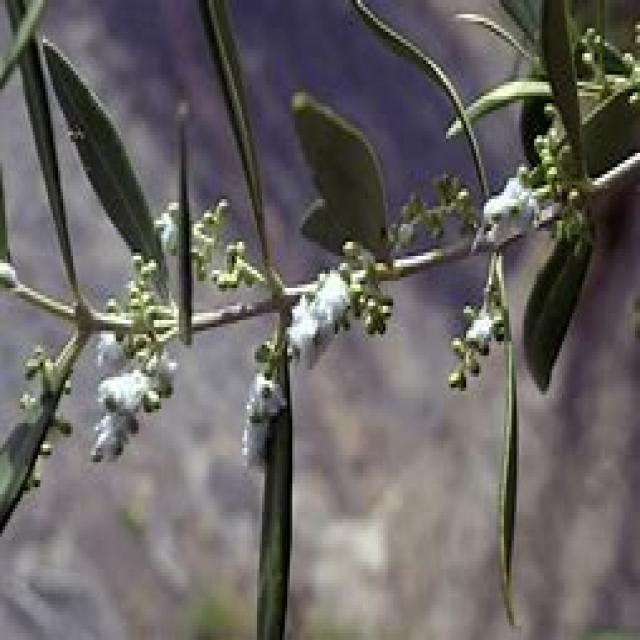Psyllid: (91, 334, 176, 459), (287, 267, 348, 366), (471, 164, 539, 249), (451, 277, 506, 373), (242, 373, 287, 466)
